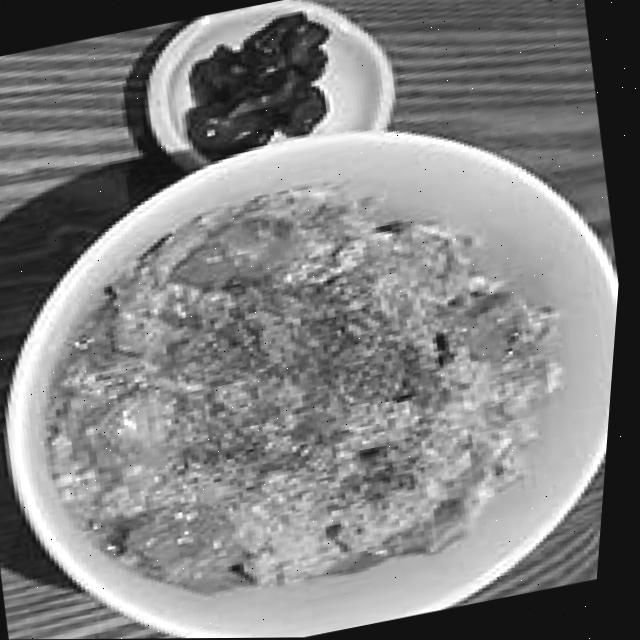米饭主食: (0, 70, 636, 640)
